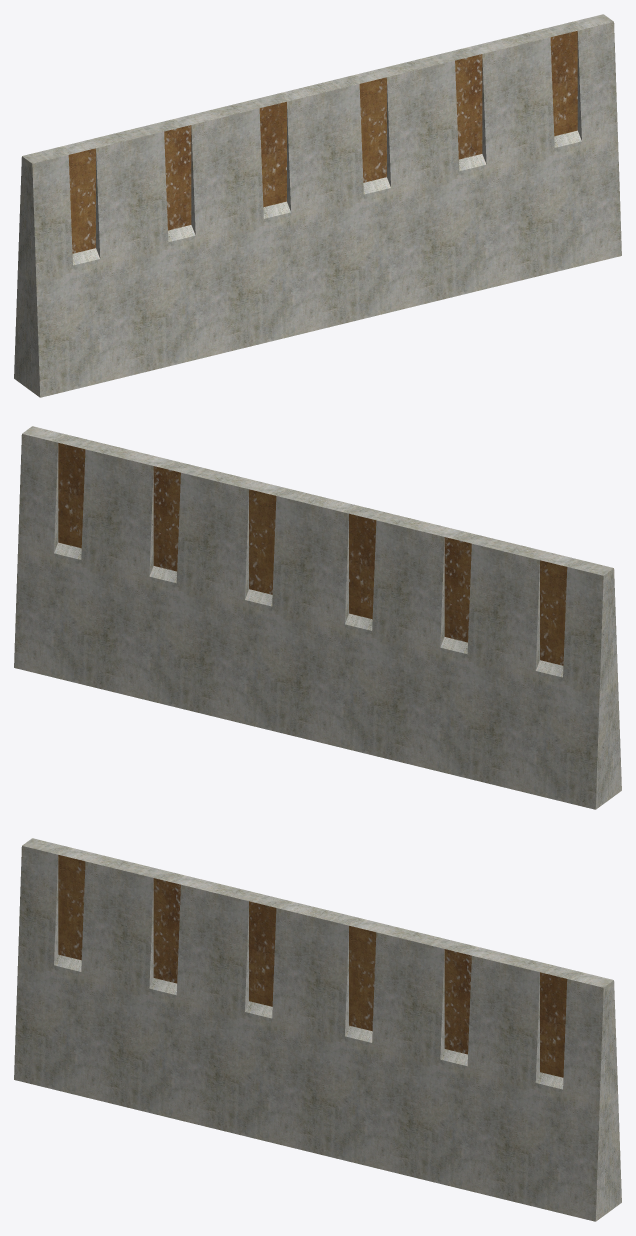
The model's file is mun_all_military_wall_weak_rebl_16_s01_l1.fbx.
3 views of the same model, one above another, from view 1: azimuth 30°, elevation 25°; view 2: azimuth 150°, elevation 25°; view 3: azimuth 330°, elevation 25° (orthographic).
Visible parts, largest first — view 1: mesh_node; view 2: mesh_node; view 3: mesh_node.
Boxes of the visible parts, left/top/right/bottom form: mesh_node: left=14, top=14, right=621, bottom=397; mesh_node: left=14, top=426, right=621, bottom=809; mesh_node: left=14, top=838, right=621, bottom=1221.
Size of the model in its own units: 16 by 6 by 1.25.
